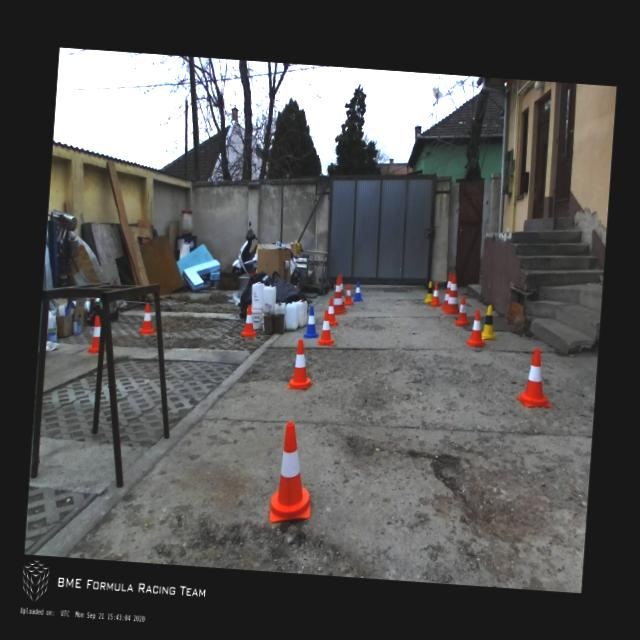blue_cone: (304, 306, 320, 338), (353, 281, 363, 302)
large_orange_cone: (444, 272, 462, 314), (332, 275, 348, 314), (336, 275, 349, 312), (440, 272, 452, 312)
orange_cone: (269, 420, 316, 524), (516, 347, 555, 408), (286, 338, 315, 390), (466, 308, 487, 346), (317, 308, 336, 346), (454, 294, 472, 326), (242, 304, 258, 337), (88, 314, 101, 354), (140, 302, 156, 333), (326, 297, 339, 326), (429, 282, 442, 306), (344, 283, 354, 305)
yellow_cone: (480, 304, 500, 340), (425, 280, 434, 302)
